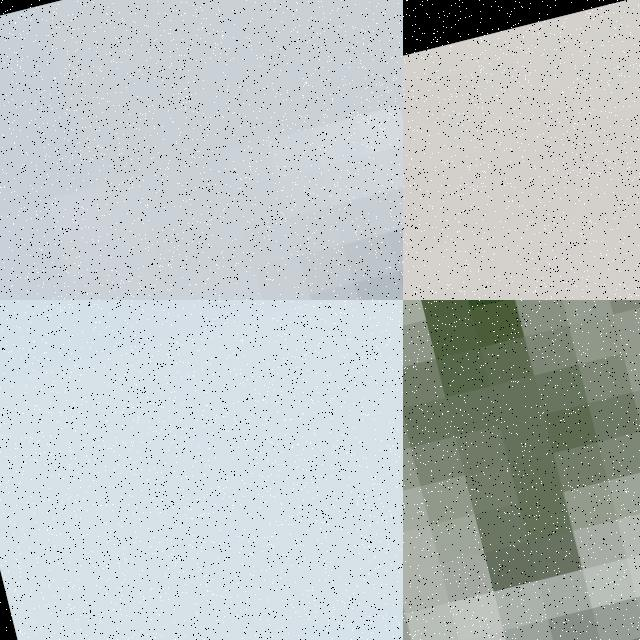0: (0, 0, 403, 300)
drone: (403, 0, 640, 300)
